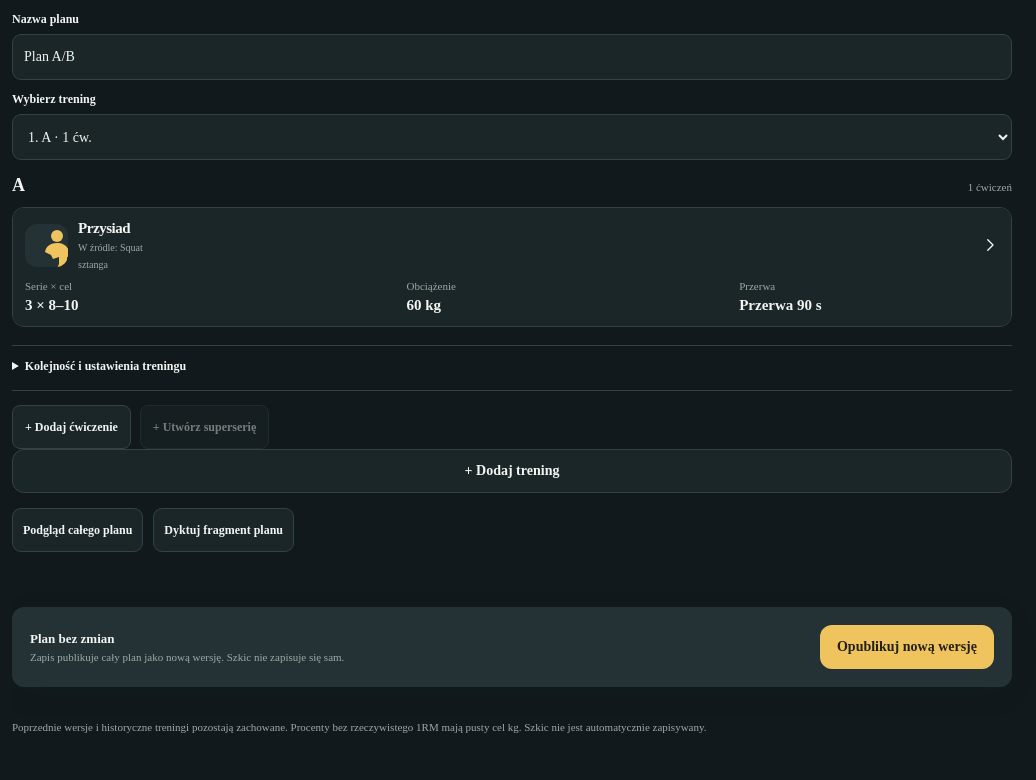
Test: konflikt wersji zachowuje szkic, a zmiana dokumentu tworzy nową operację
Click the button "Opublikuj nową wersję" at (907, 647), box [820,625,994,669]
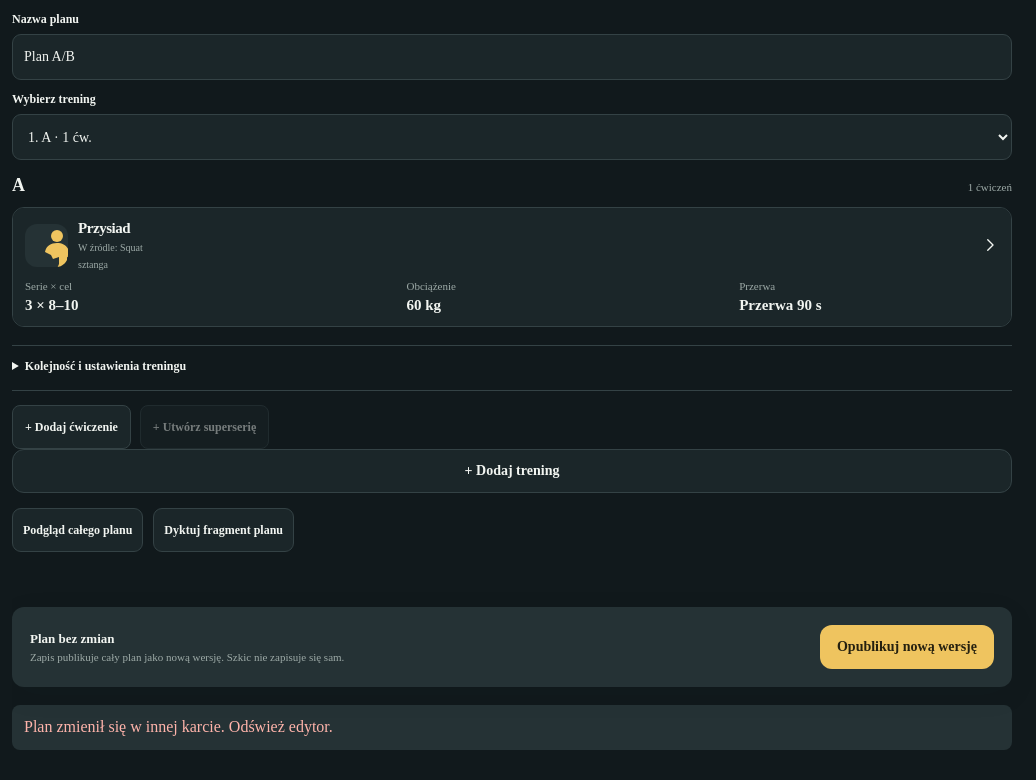
Expected: the message "Plan zmienił się w innej karcie. Odśwież edytor." is shown, [12,705,1012,750]
Replace the text in the field labelled "Nazwa planu" with "Nadal tutaj" at (512, 57), box [12,34,1012,80]
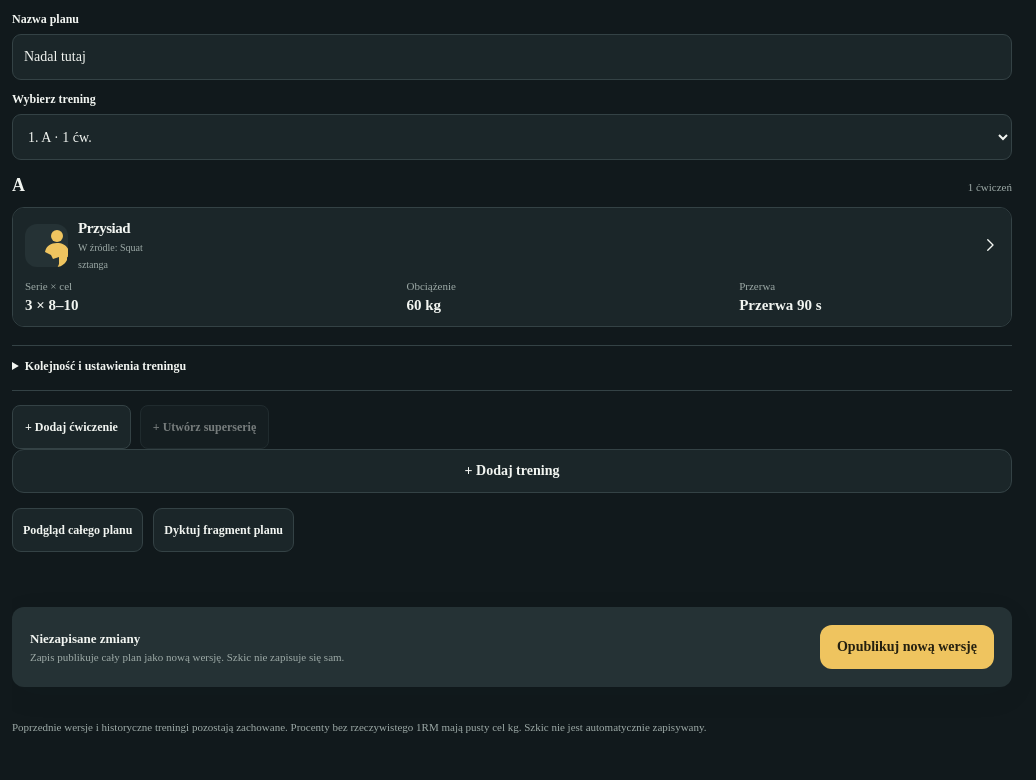
Click the button "Opublikuj nową wersję" at (907, 647), box [820,625,994,669]
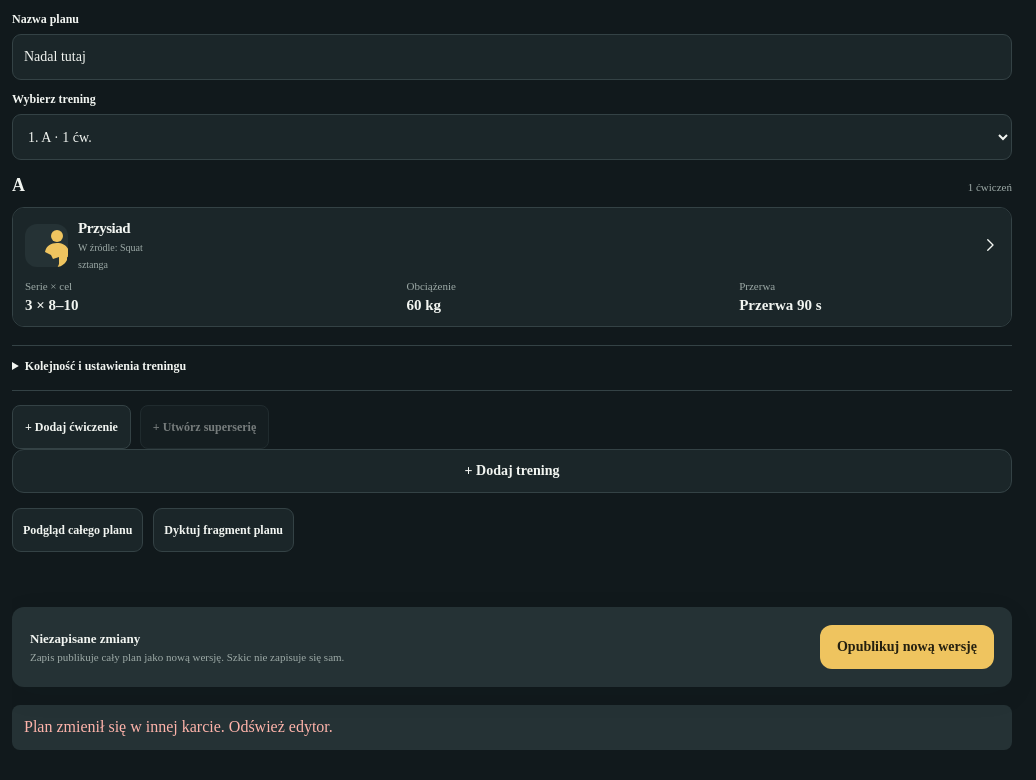
Expected: the message "Plan zmienił się w innej karcie. Odśwież edytor." is shown, [12,705,1012,750]
